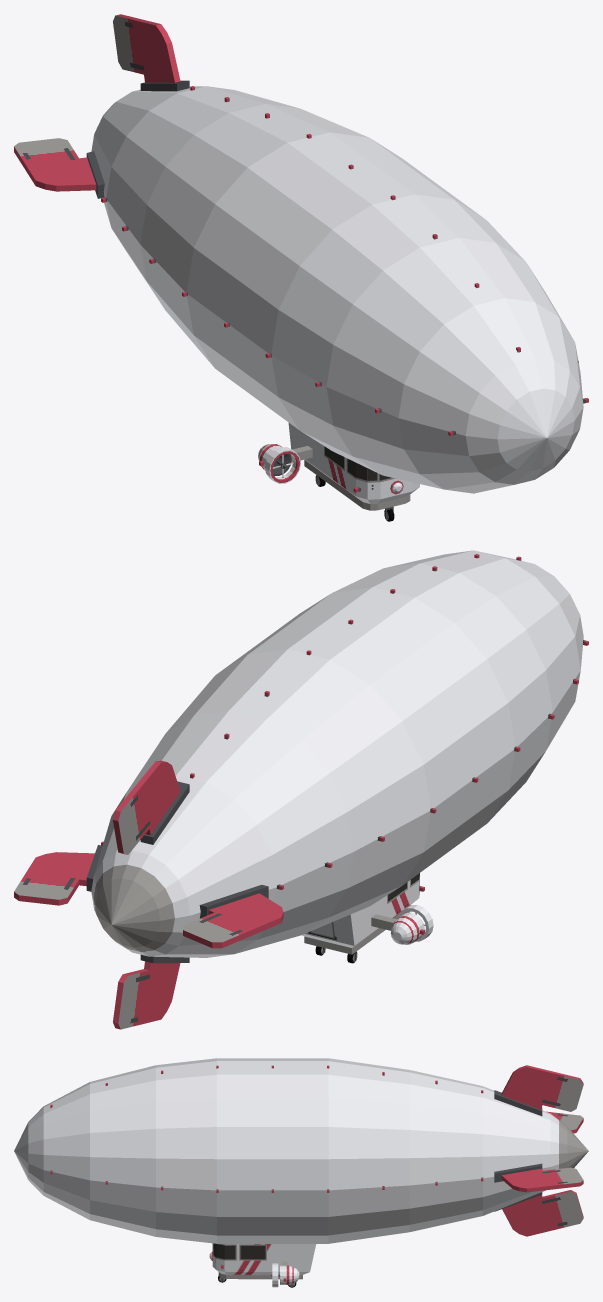
3 views of the same model, one above another, from view 1: azimuth 30°, elevation 25°; view 2: azimuth 150°, elevation 25°; view 3: azimuth 270°, elevation 25° (orthographic). The views are drawn at different scales.
Visible parts, largest first — view 1: Blimp1; view 2: Blimp1; view 3: Blimp1.
Boxes of the visible parts, x1,y1,x2,y2 form: Blimp1: [14, 14, 588, 518]; Blimp1: [14, 550, 588, 1029]; Blimp1: [14, 1058, 588, 1287].
Size of the model in its own units: 400 by 495 by 1195.
1 material, 1 textured.
